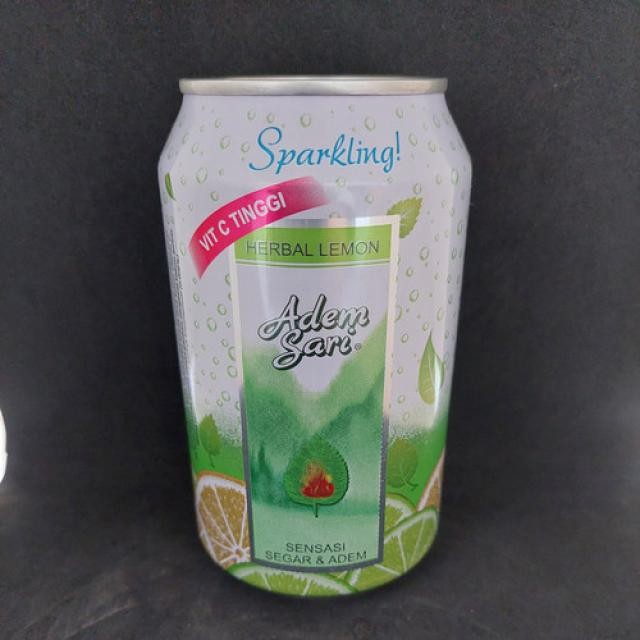ademsarikaleng: (155, 73, 473, 600)
